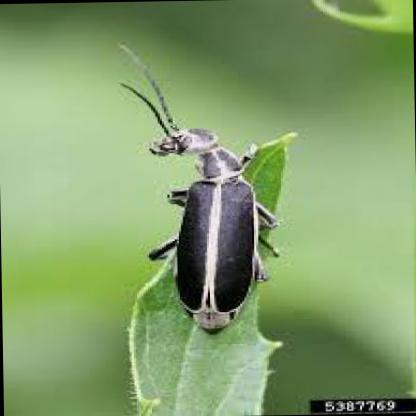blister beetle: (119, 82, 281, 333)
